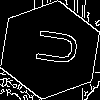U: (25, 25, 79, 68)
